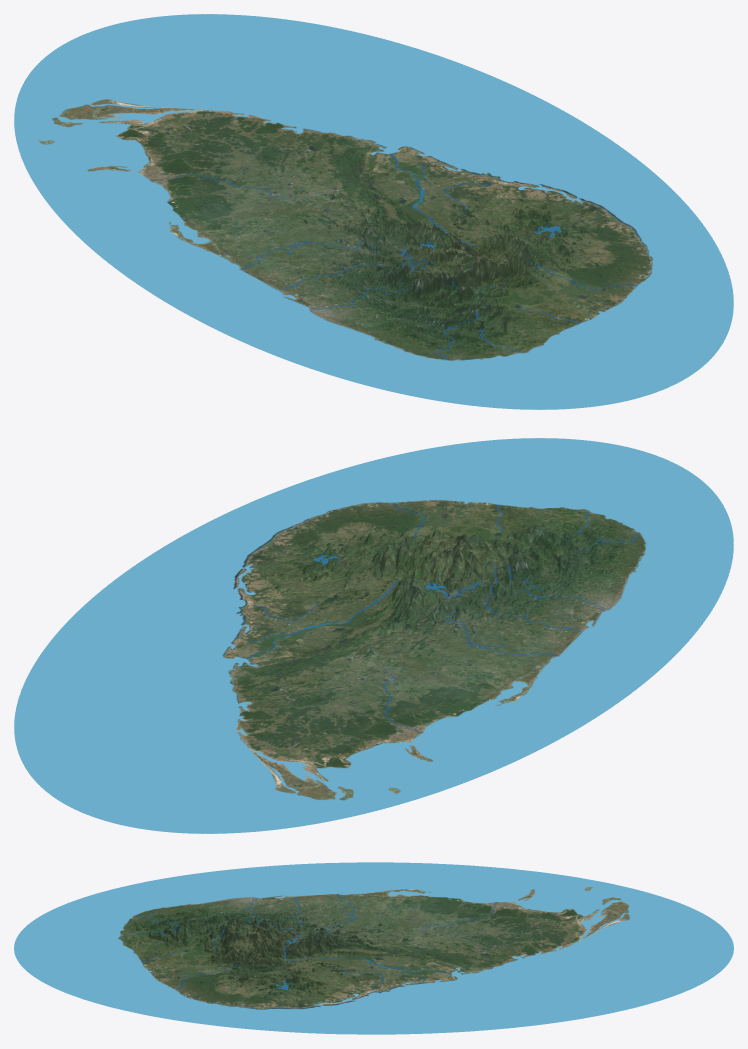
The model's file is LKA-previa-terrain.glb.
3 views of the same model, one above another, from view 1: azimuth 30°, elevation 25°; view 2: azimuth 150°, elevation 25°; view 3: azimuth 270°, elevation 25° (orthographic). The views are drawn at different scales.
Parts seen in each view (by area): view 1: Sri Lanka; view 2: Sri Lanka; view 3: Sri Lanka.
Part boxes in pixels (x1,y1,x2,y2): Sri Lanka: [14, 14, 733, 409]; Sri Lanka: [14, 438, 733, 833]; Sri Lanka: [14, 862, 733, 1034].
Bounding box in the file's own units: 1.4 × 0.0806 × 2.47.
Materials: 1 (1 with a texture image).
